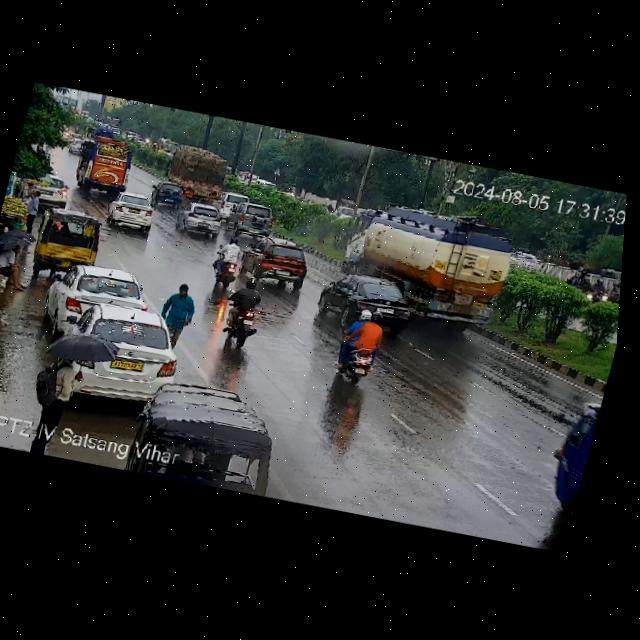bus: (70, 127, 141, 195)
car: (37, 297, 190, 412), (44, 257, 158, 336), (308, 266, 422, 330), (28, 207, 108, 279), (239, 232, 319, 291), (103, 189, 161, 233), (224, 199, 277, 238), (175, 200, 226, 237), (27, 169, 75, 207), (150, 180, 188, 209)
motorcycle: (332, 299, 388, 388), (211, 275, 274, 353), (573, 272, 598, 301), (590, 277, 615, 304), (607, 277, 621, 306), (569, 264, 586, 284)
person: (38, 328, 125, 405), (155, 278, 200, 352), (0, 239, 37, 293), (209, 235, 247, 287), (21, 189, 44, 234), (24, 182, 35, 201)
truck: (332, 197, 528, 329), (163, 142, 235, 204)
